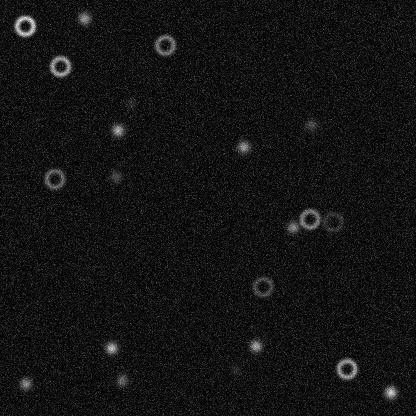Ring: (42, 166, 66, 190), (153, 32, 177, 56), (320, 209, 344, 233), (250, 274, 274, 298), (297, 206, 321, 230), (12, 13, 36, 37), (334, 356, 358, 380), (48, 54, 72, 78)
Spot: (382, 384, 398, 400), (76, 10, 92, 26), (303, 117, 319, 133), (113, 372, 129, 388), (227, 361, 243, 377), (122, 94, 138, 110), (17, 375, 33, 391), (107, 168, 123, 184), (284, 219, 300, 235), (247, 337, 263, 353), (235, 138, 251, 154), (109, 122, 125, 138), (103, 339, 119, 355)
